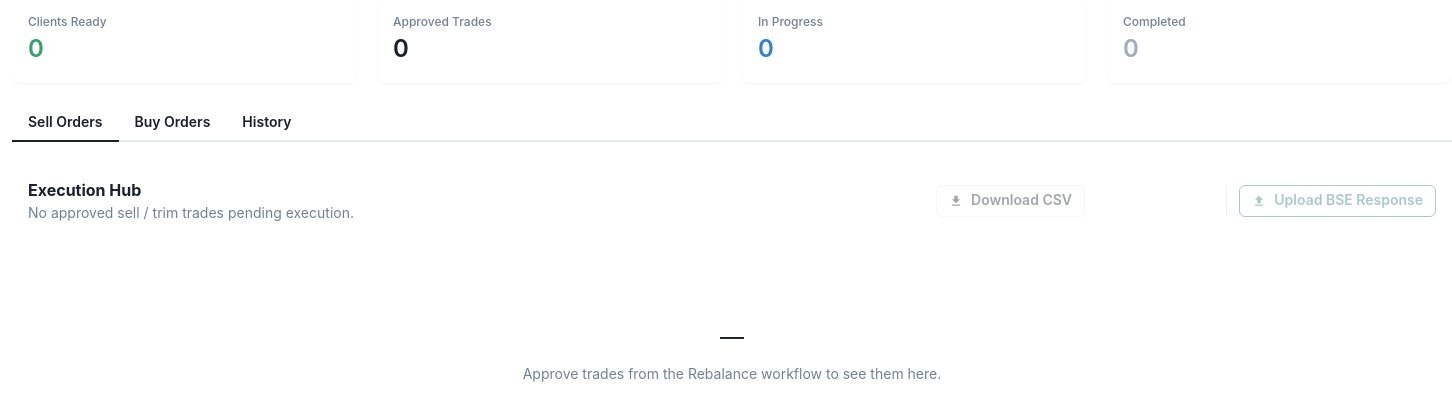
Test: BseOrderFile component — empty state › [BseOrderFile] History tab shows empty-state element
Click the tab with test id "tab-history" at [267, 122], box [226,103,308,142]
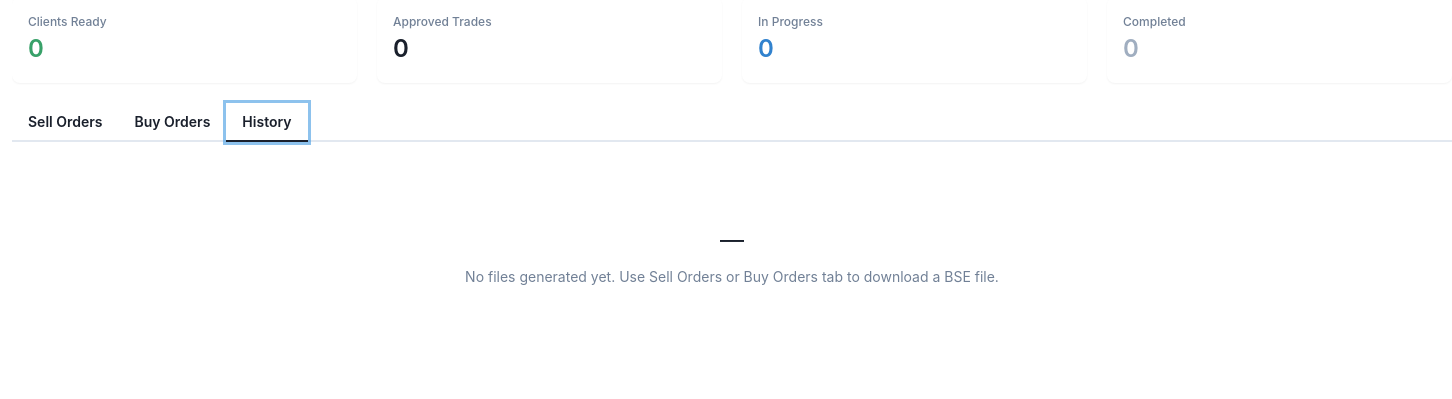
Expected: the element with test id "history-empty" is shown, [465,225,999,285]
